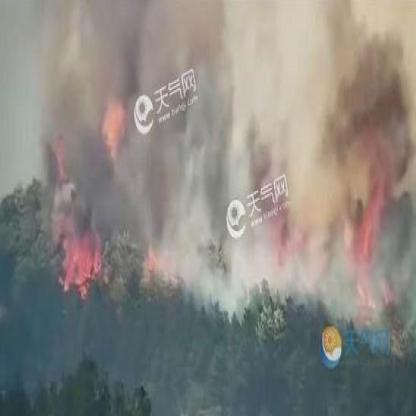fire: (343, 180, 399, 339), (50, 134, 102, 302), (134, 231, 172, 280)
smoke: (24, 6, 414, 231)
